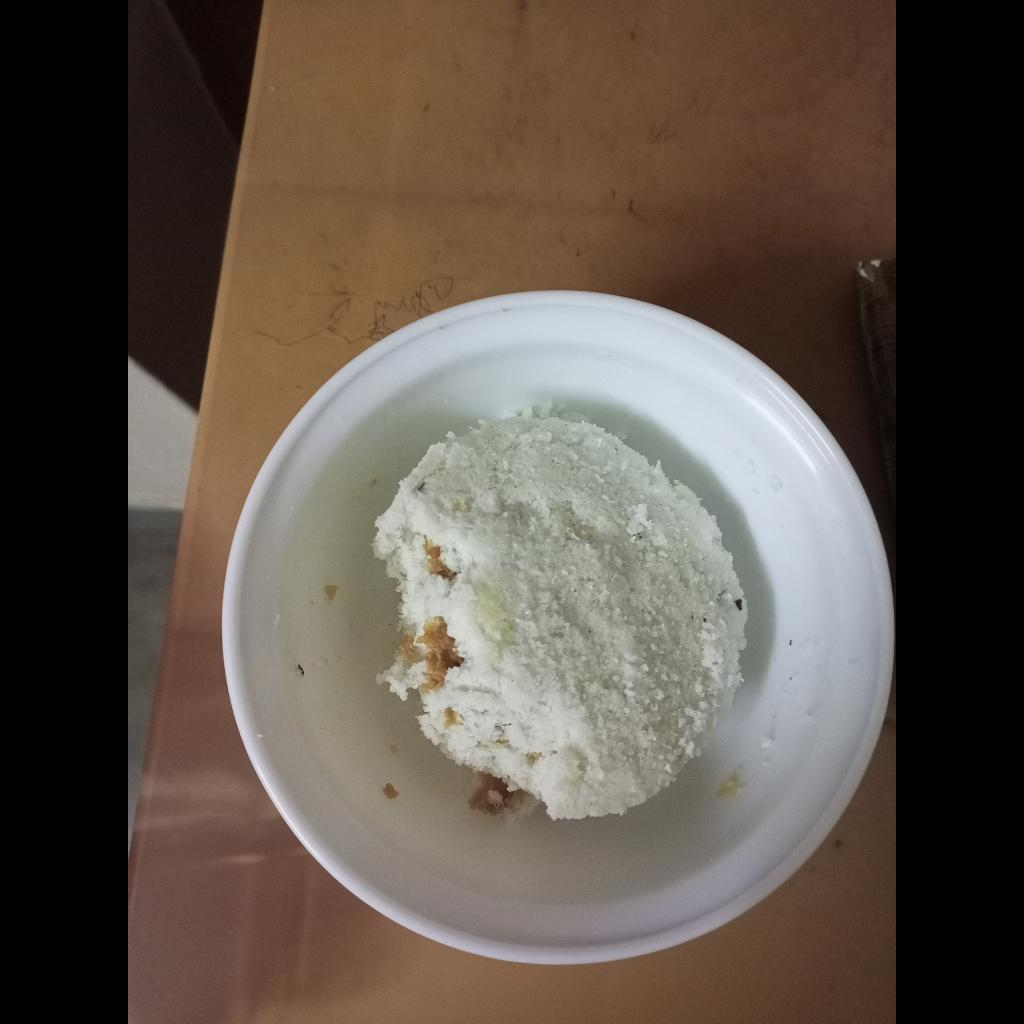sweets: (369, 407, 749, 818)
